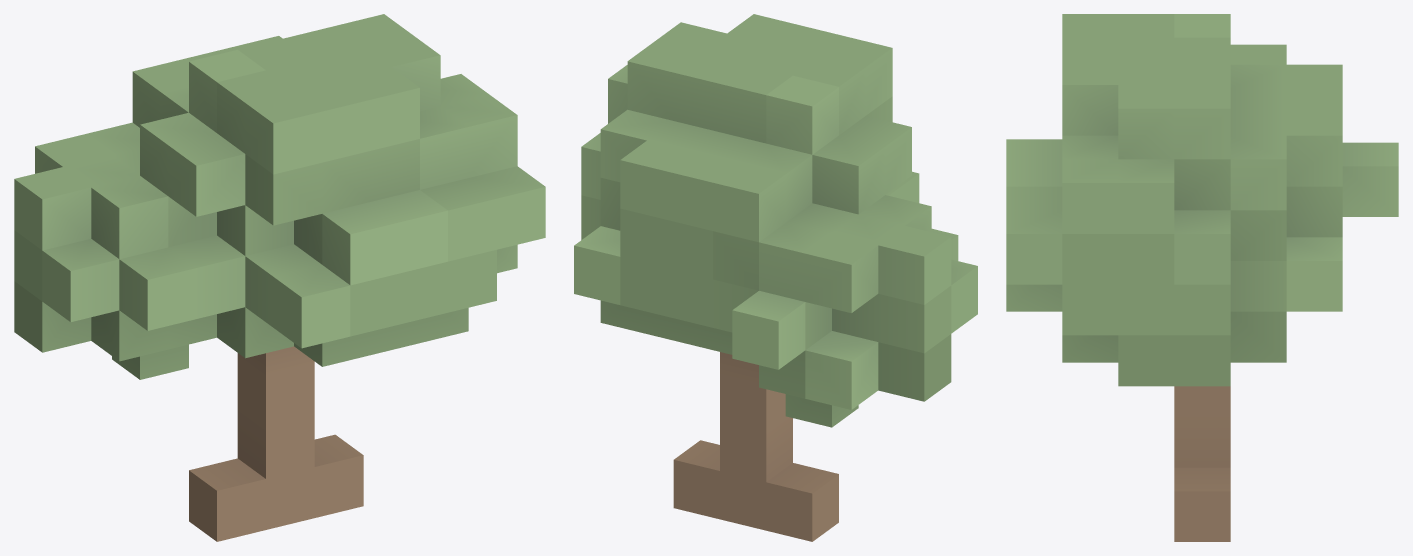
The model's file is decor_tree_a.glb.
3 views of the same model, side by side, from view 1: azimuth 30°, elevation 25°; view 2: azimuth 150°, elevation 25°; view 3: azimuth 270°, elevation 25° (orthographic). The views are drawn at different scales.
Parts seen in each view (by area): view 1: decor_tree_a; view 2: decor_tree_a; view 3: decor_tree_a.
Boxes of the visible parts, left/top/right/bottom form: decor_tree_a: left=14, top=14, right=545, bottom=541; decor_tree_a: left=574, top=14, right=977, bottom=541; decor_tree_a: left=1006, top=14, right=1398, bottom=541.
Size of the model in its own units: 1 by 1.12 by 0.875.
